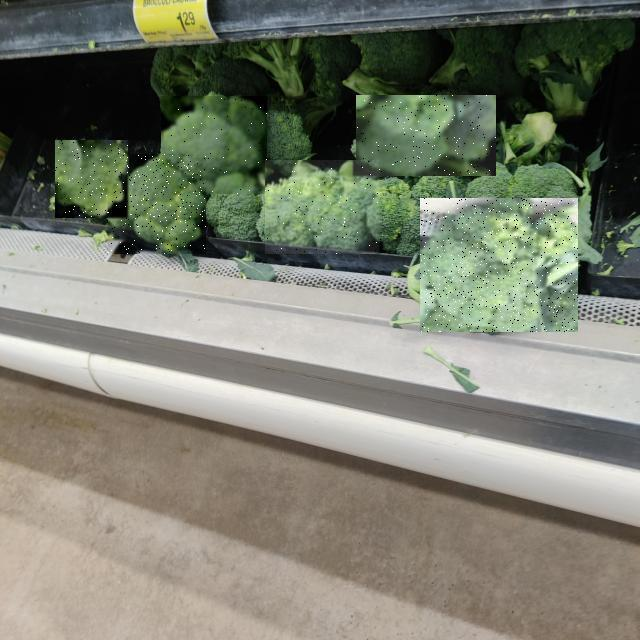Broccoli: (420, 199, 578, 333), (356, 95, 496, 176), (266, 161, 382, 255), (161, 96, 267, 194), (109, 154, 207, 254), (55, 140, 128, 218)
